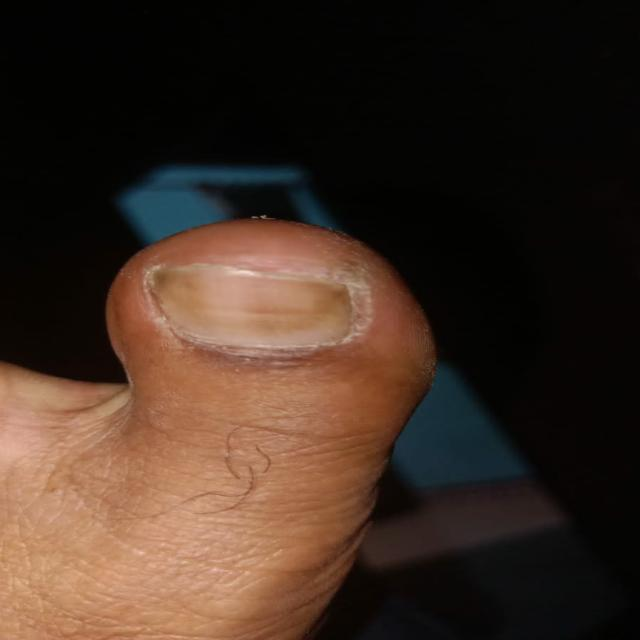diabetes: (150, 263, 358, 346)
